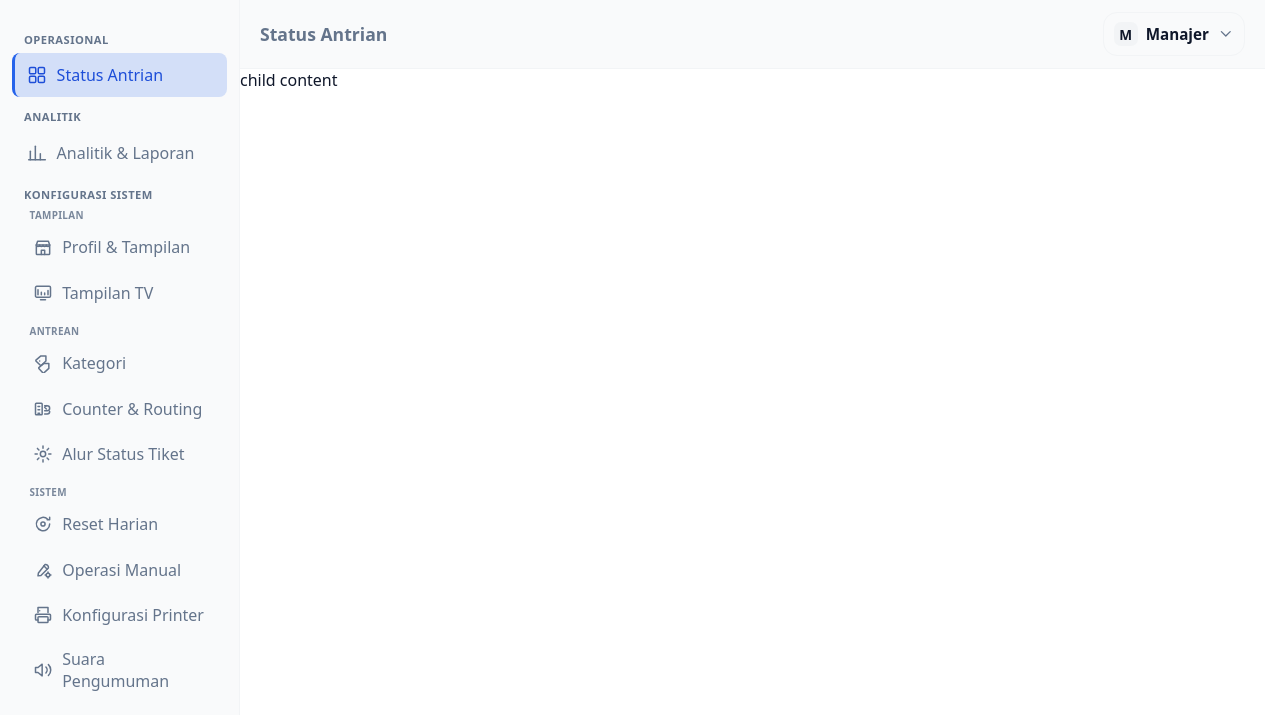
AppShell › profile button has aria-haspopup=menu and toggles the menu on click
Click the button "M Manajer".
click(1174, 34)  # box [1103,12,1245,56]
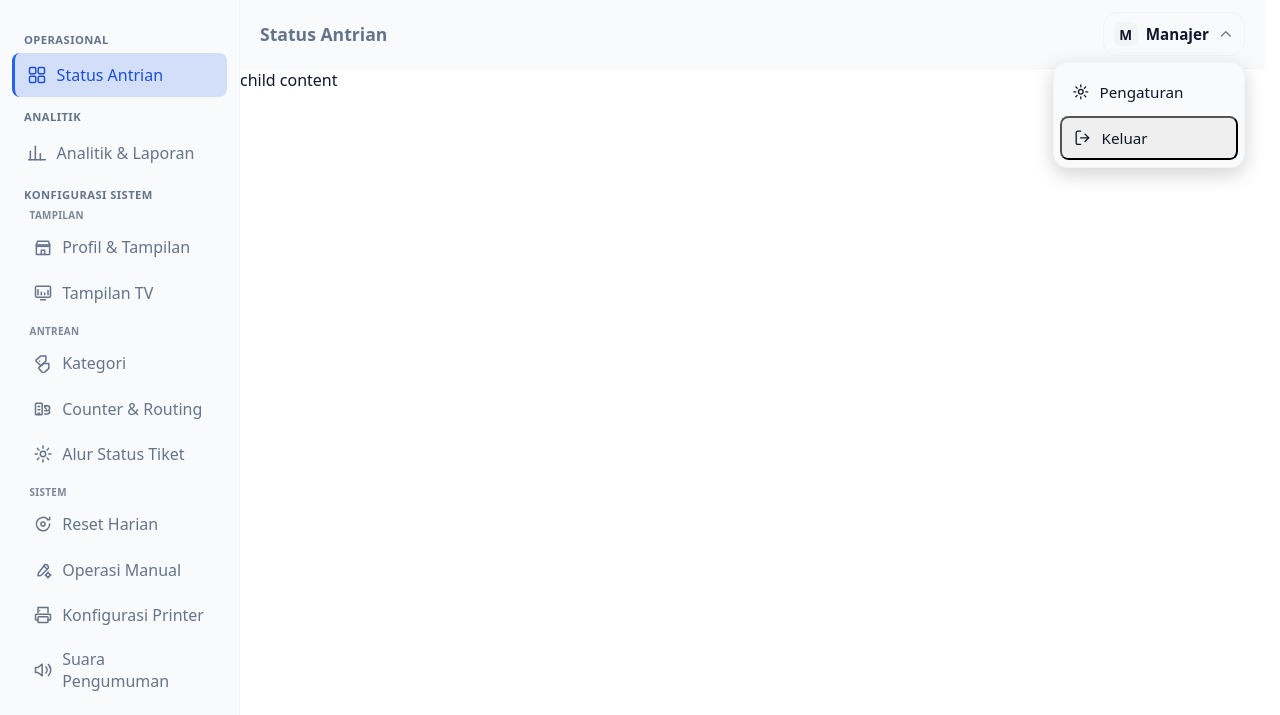
Result: the button "M Manajer" is expanded at [1103,12,1245,56]
Result: the menu item "Pengaturan" is shown at [1072,82,1183,102]
Result: the menu item "Keluar" is shown at [1060,116,1238,160]
